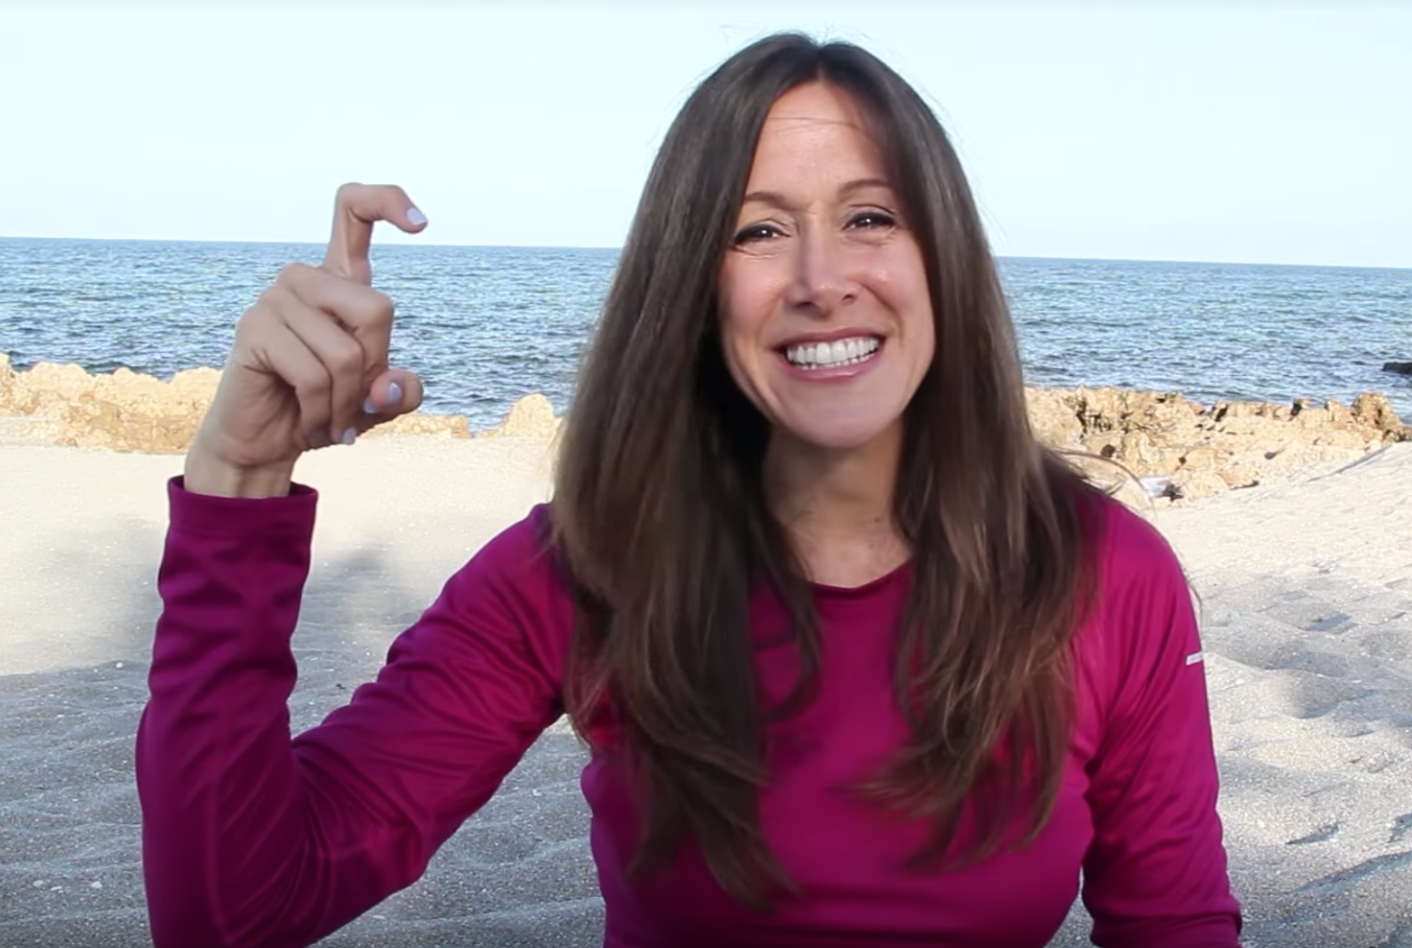x: (179, 172, 454, 518)
